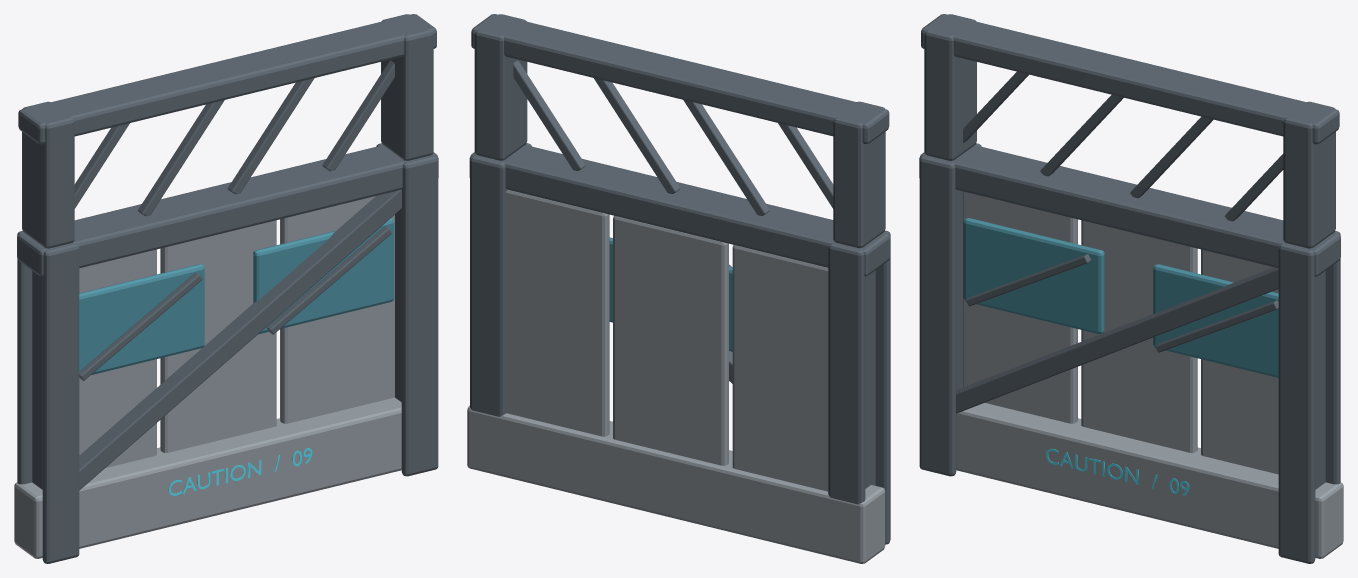
The model's file is 1_WallB.fbx.
The picture shows the model from 3 angles, left to right: view 1: azimuth 30°, elevation 25°; view 2: azimuth 150°, elevation 25°; view 3: azimuth 330°, elevation 25°; orthographic projection.
Parts seen in each view (by area): view 1: Body; view 2: Body; view 3: Body.
Part boxes in pixels (x1=…): Body: x1=14, y1=14, x2=438, y2=563; Body: x1=467, y1=14, x2=890, y2=563; Body: x1=919, y1=14, x2=1343, y2=563.
Bounding box in the file's own units: 4 × 4.2 × 0.535.
